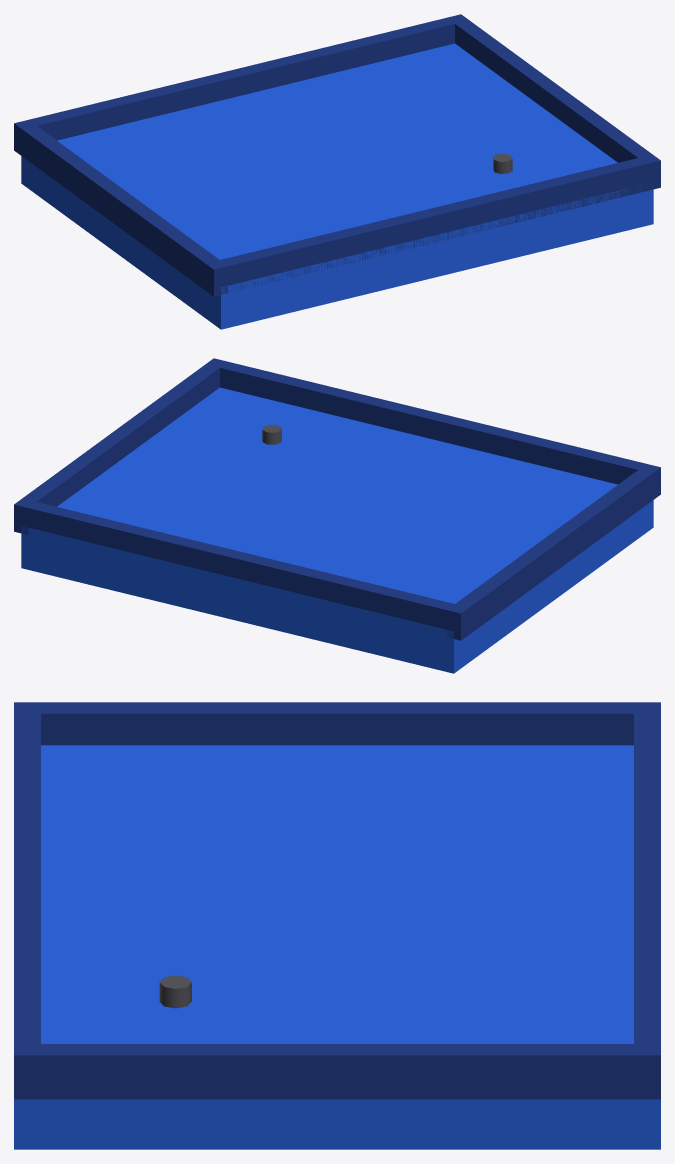
The model's file is roof_blue_flat.glb.
3 views of the same model, one above another, from view 1: azimuth 30°, elevation 25°; view 2: azimuth 150°, elevation 25°; view 3: azimuth 270°, elevation 25° (orthographic). The views are drawn at different scales.
Size of the model in its own units: 2.2 by 0.2912 by 1.7.
